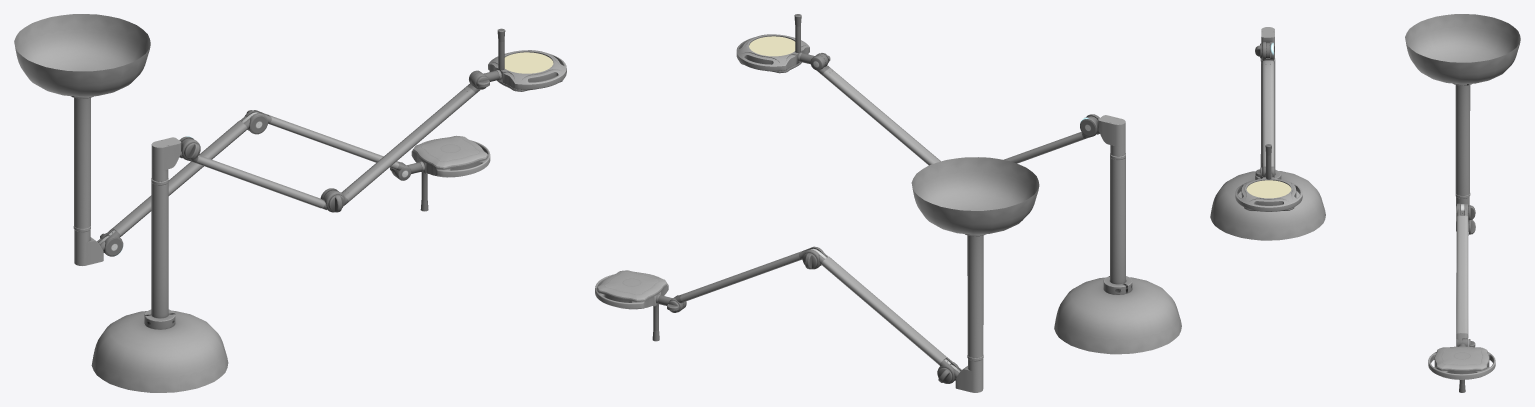
Rendered from lamp4.glb.
The picture shows the model from 3 angles, left to right: view 1: azimuth 30°, elevation 25°; view 2: azimuth 150°, elevation 25°; view 3: azimuth 270°, elevation 25°; orthographic projection. The views are drawn at different scales.
Parts seen in each view (by area): view 1: lamp_LP, lamp_LP.001, glass; view 2: lamp_LP, lamp_LP.001, glass; view 3: lamp_LP, lamp_LP.001, glass.
Boxes of the visible parts, left/top/right/bottom form: lamp_LP: left=14, top=14, right=490, bottom=265; lamp_LP.001: left=91, top=28, right=566, bottom=392; glass: left=504, top=52, right=553, bottom=73; lamp_LP: left=595, top=157, right=1039, bottom=392; lamp_LP.001: left=736, top=14, right=1181, bottom=354; glass: left=749, top=36, right=795, bottom=56; lamp_LP: left=1405, top=14, right=1520, bottom=392; lamp_LP.001: left=1210, top=27, right=1325, bottom=240; glass: left=1246, top=180, right=1291, bottom=198.
Size of the model in its own units: 1.47 by 0.7692 by 0.9361.
Materials: 3 (2 with a texture image).
